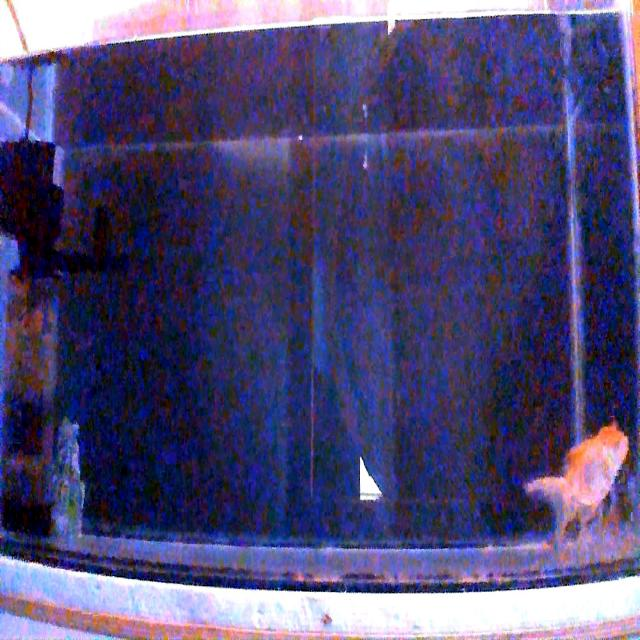fish: (522, 418, 628, 540)
